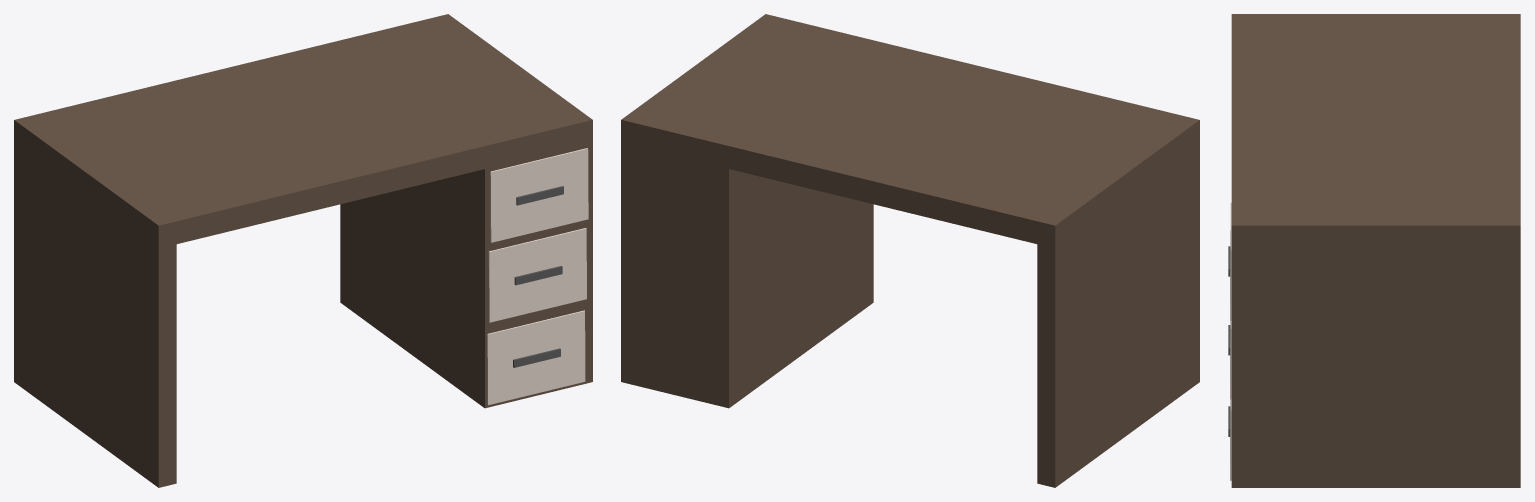
Rendered from Table_7.fbx.
3 views of the same model, side by side, from view 1: azimuth 30°, elevation 25°; view 2: azimuth 150°, elevation 25°; view 3: azimuth 270°, elevation 25° (orthographic).
Visible parts, largest first — view 1: Table_7; view 2: Table_7; view 3: Table_7.
Boxes of the visible parts, bbox=[...] form: Table_7: bbox=[14, 14, 592, 487]; Table_7: bbox=[621, 14, 1199, 487]; Table_7: bbox=[1228, 14, 1520, 487].
Bounding box in the file's own units: 173 × 101 × 99.76.
